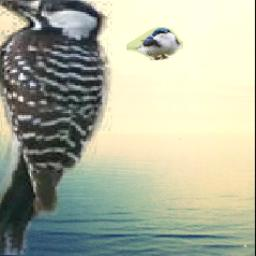Swallow: (125, 28, 182, 61)
Woodpecker: (0, 0, 115, 255)
